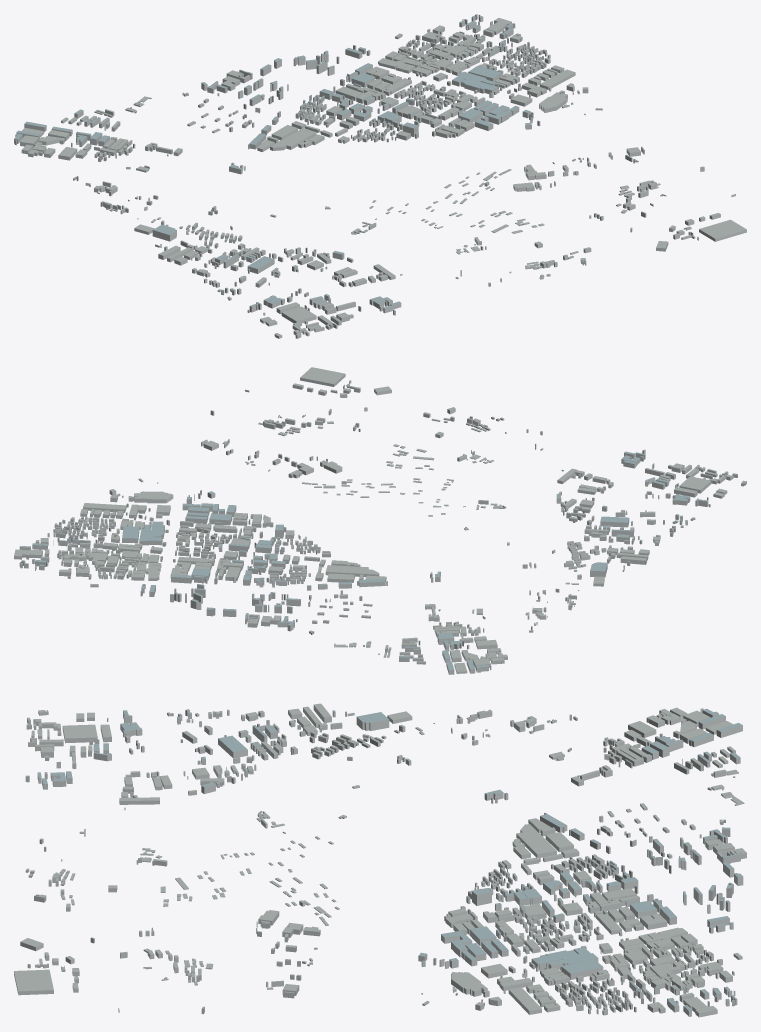
File: far.glb
The picture shows the model from 3 angles, top to bottom: view 1: azimuth 30°, elevation 25°; view 2: azimuth 150°, elevation 25°; view 3: azimuth 270°, elevation 25°; orthographic projection. The views are drawn at different scales.
Bounding box in the file's own units: 2145 × 35.53 × 2153.
